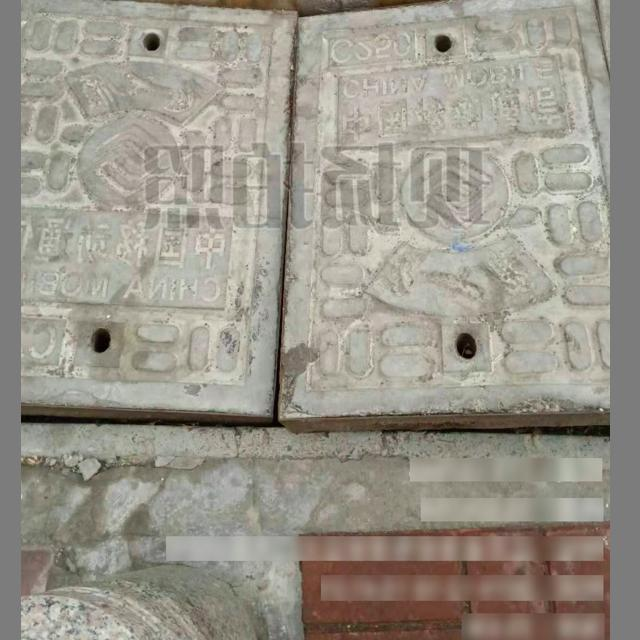uncovered: (20, 0, 609, 456)
